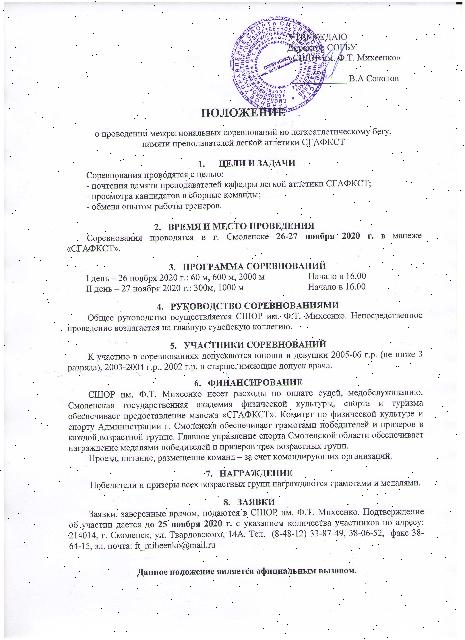stamp: (230, 15, 326, 110)
